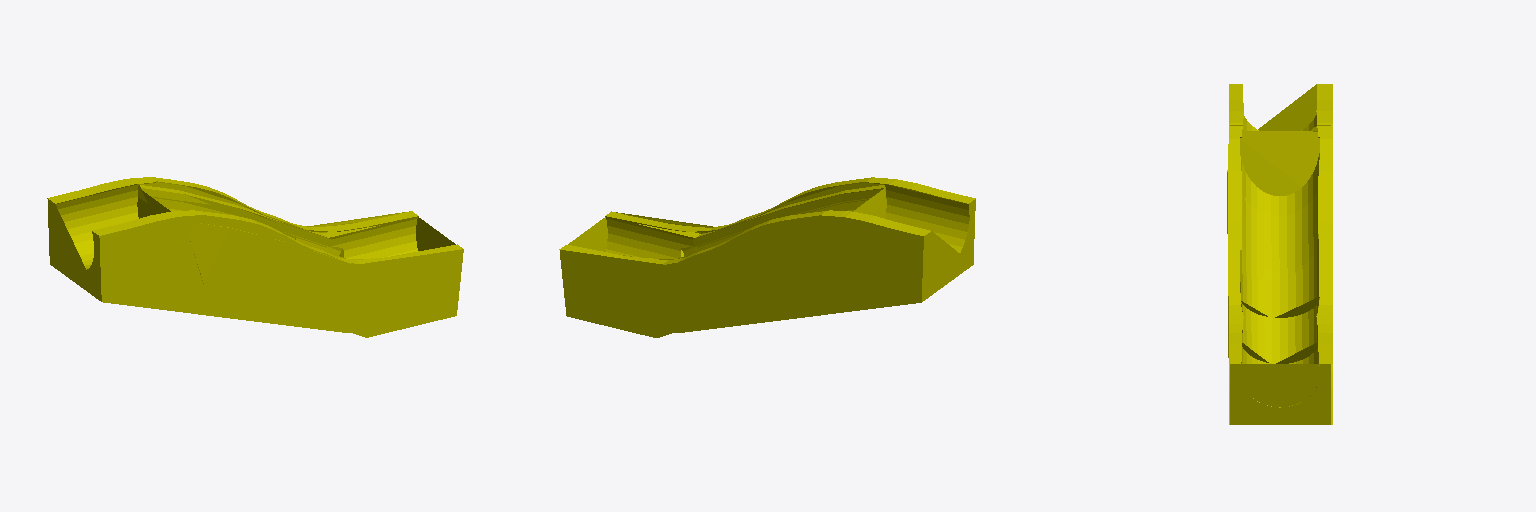
File: slope2.obj
3 renders of one model, left to right at view 1: azimuth 30°, elevation 25°; view 2: azimuth 150°, elevation 25°; view 3: azimuth 270°, elevation 25°, orthographic.
Visible parts, largest first — view 1: Slope.001_Slope.009; view 2: Slope.001_Slope.009; view 3: Slope.001_Slope.009.
Boxes of the visible parts, <box> form: Slope.001_Slope.009: <box>47,177,463,337</box>; Slope.001_Slope.009: <box>559,177,975,337</box>; Slope.001_Slope.009: <box>1227,84,1332,424</box>.
Bounding box in the file's own units: 4.17 × 1.84 × 1.04.